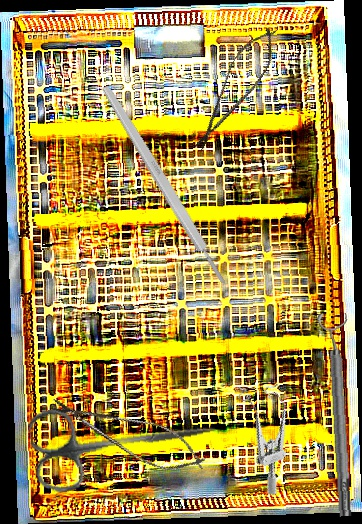Fixation Ring: (316, 312, 361, 518)
Iris Scissors: (26, 385, 222, 496)
Micro Scissor: (43, 385, 213, 484), (185, 20, 286, 159)
Scalpel Handle: (98, 82, 231, 289)
Speculum: (227, 372, 316, 498)
